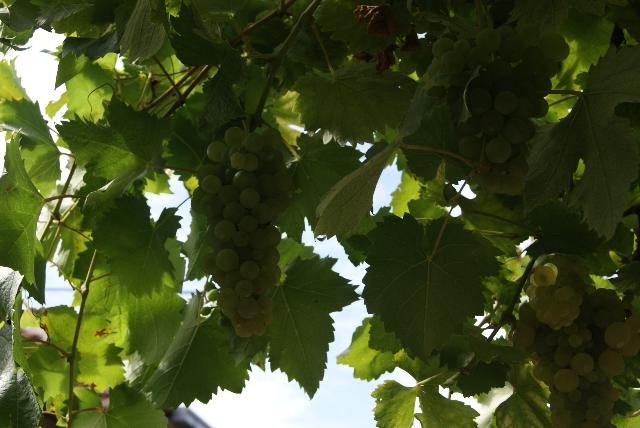grapes: (434, 26, 569, 194), (191, 126, 295, 338), (512, 290, 640, 428), (526, 255, 589, 330), (589, 286, 608, 306)
